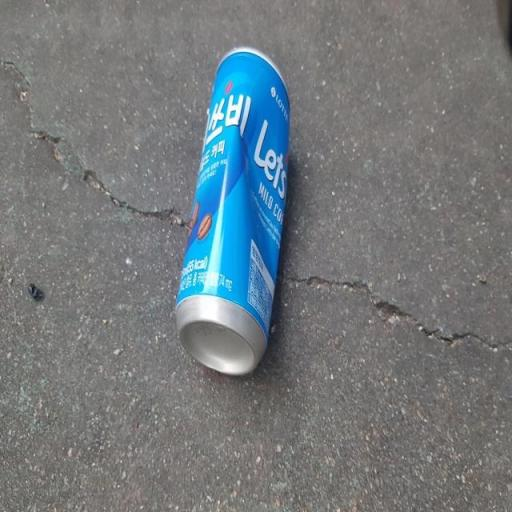metal: (167, 22, 323, 400)
